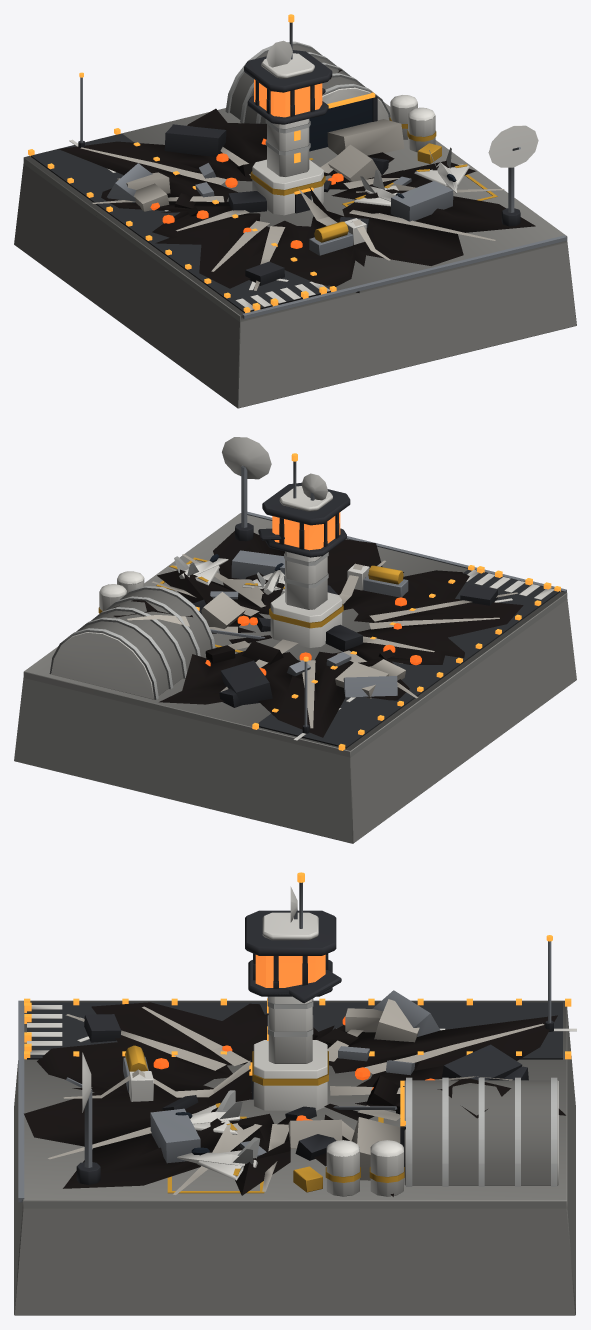
Rendered from airfield-luna.glb.
3 views of the same model, one above another, from view 1: azimuth 30°, elevation 25°; view 2: azimuth 150°, elevation 25°; view 3: azimuth 270°, elevation 25° (orthographic). The views are drawn at different scales.
Parts seen in each view (by area): view 1: site_airfield_luna_body, site_airfield_luna_ruin, site_airfield_luna_core; view 2: site_airfield_luna_body, site_airfield_luna_ruin, site_airfield_luna_core; view 3: site_airfield_luna_body, site_airfield_luna_ruin, site_airfield_luna_core.
Boxes of the visible parts, bbox=[...] form: site_airfield_luna_body: bbox=[14, 41, 576, 408]; site_airfield_luna_ruin: bbox=[58, 69, 535, 292]; site_airfield_luna_core: bbox=[244, 14, 332, 124]; site_airfield_luna_body: bbox=[14, 437, 576, 843]; site_airfield_luna_ruin: bbox=[107, 523, 523, 737]; site_airfield_luna_core: bbox=[262, 453, 350, 557]; site_airfield_luna_body: bbox=[14, 935, 576, 1315]; site_airfield_luna_ruin: bbox=[24, 953, 565, 1196]; site_airfield_luna_core: bbox=[245, 872, 336, 996].
Bounding box in the file's own units: 5.6 × 4.23 × 6.41.
